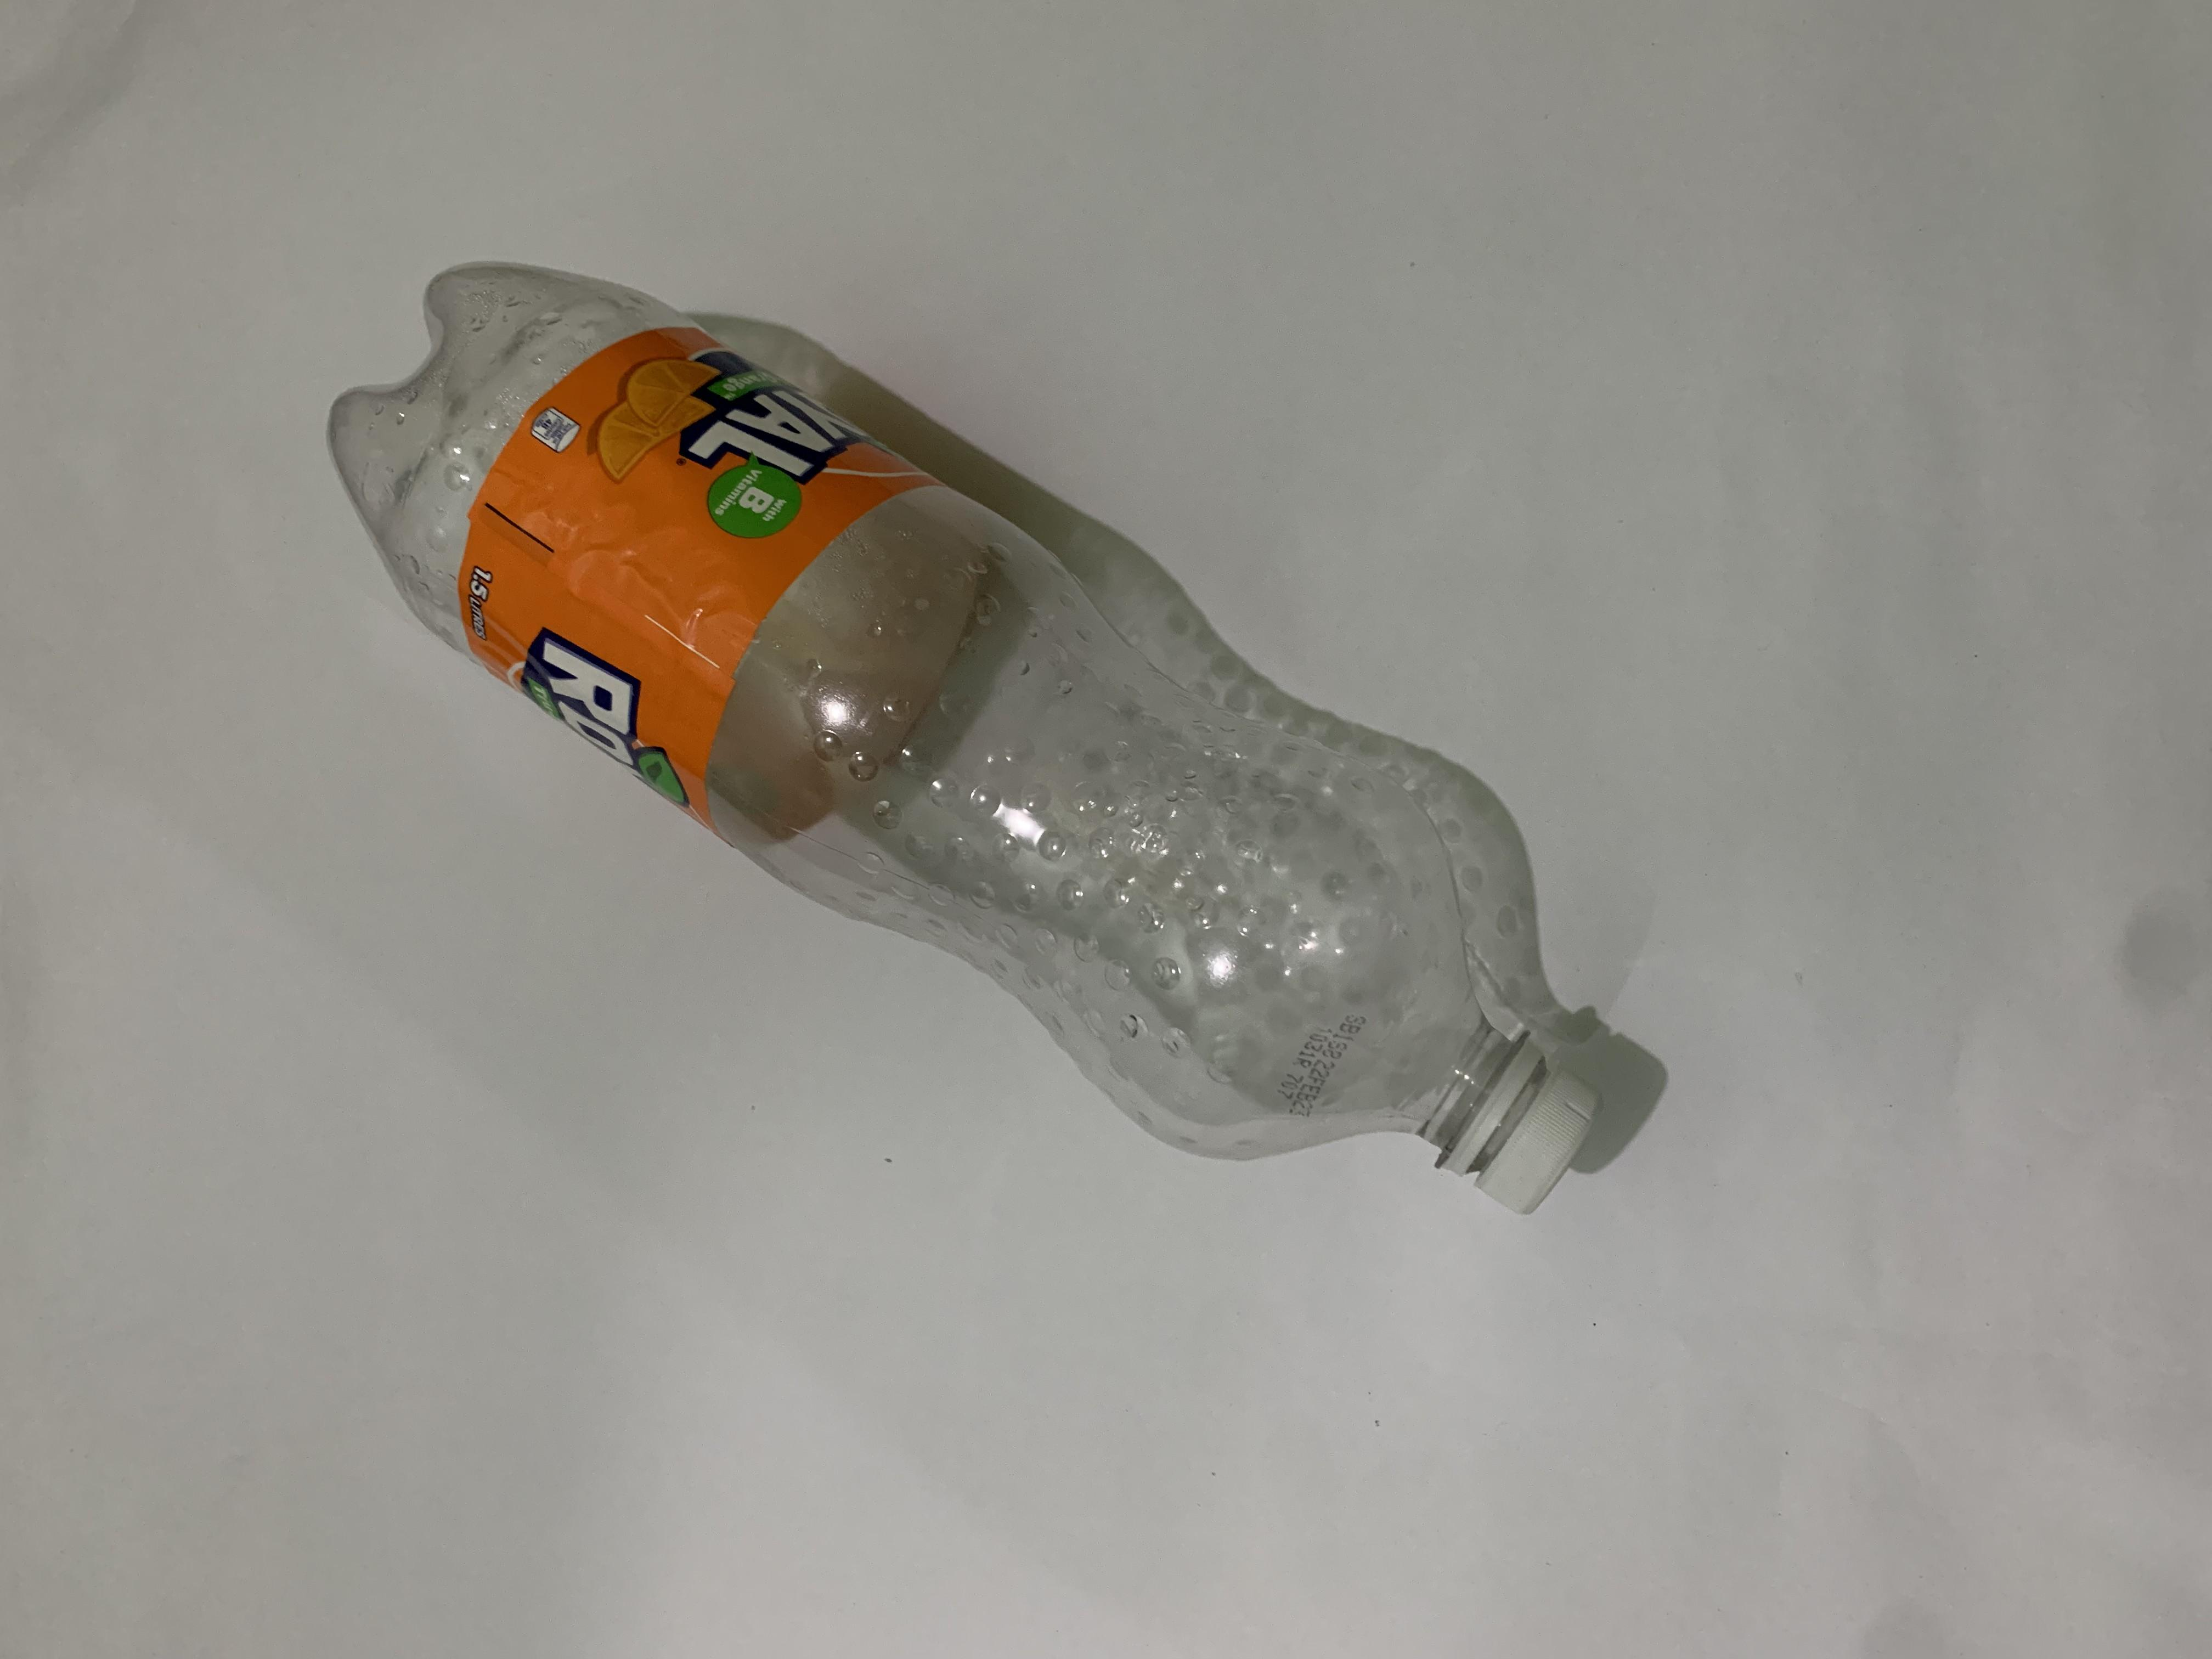bottle: (0, 641, 98, 786)
